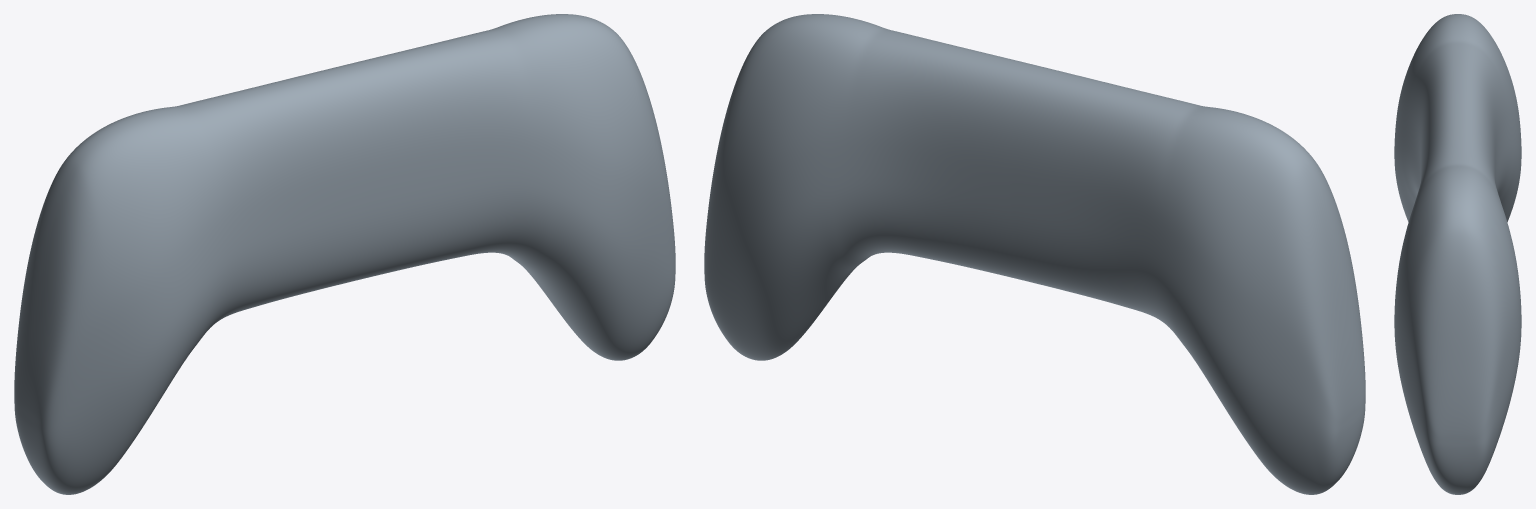
The model's file is controller-shell.glb.
3 renders of one model, left to right at view 1: azimuth 30°, elevation 25°; view 2: azimuth 150°, elevation 25°; view 3: azimuth 270°, elevation 25°, orthographic. The views are drawn at different scales.
Parts seen in each view (by area): view 1: controller-shell; view 2: controller-shell; view 3: controller-shell.
Boxes of the visible parts, bbox=[...] form: controller-shell: bbox=[14, 14, 675, 494]; controller-shell: bbox=[704, 14, 1365, 494]; controller-shell: bbox=[1394, 14, 1521, 494].
Size of the model in its own units: 5.98 by 3.22 by 1.3.
